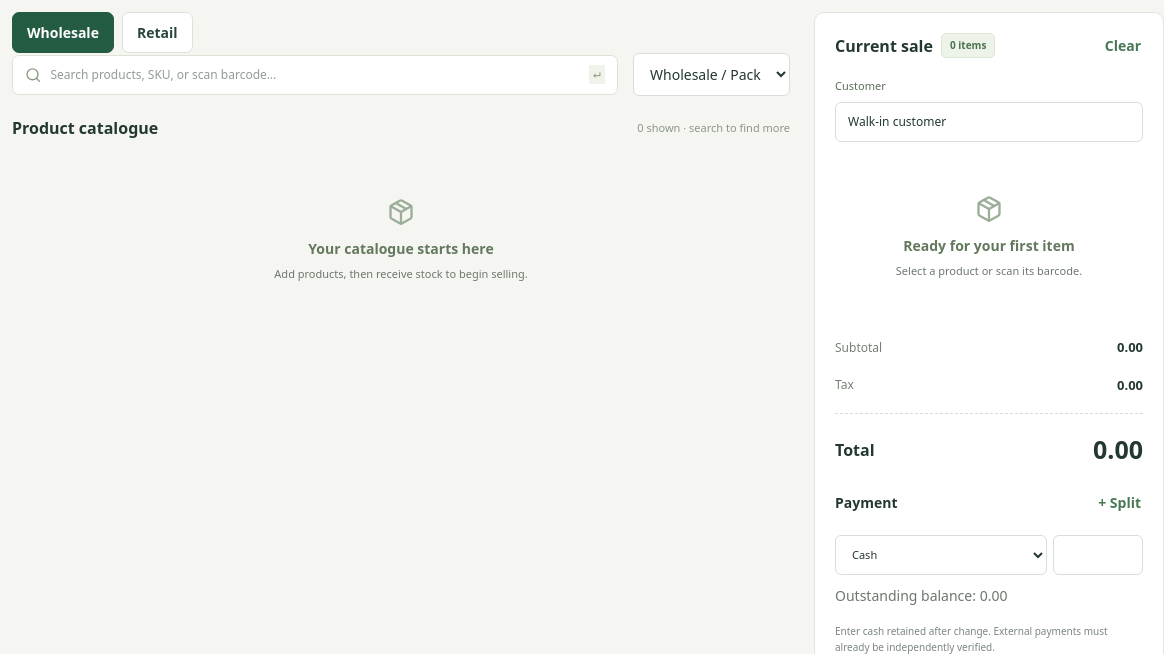
Test: keeps pack and unit cart lines separate for retail_pack
Check: the dropdown named "Default selling mode" shows "Wholesale / Pack", box [633,53,790,96]
Step 1. Click the button "Retail" → (157, 32), box [122,12,192,53]
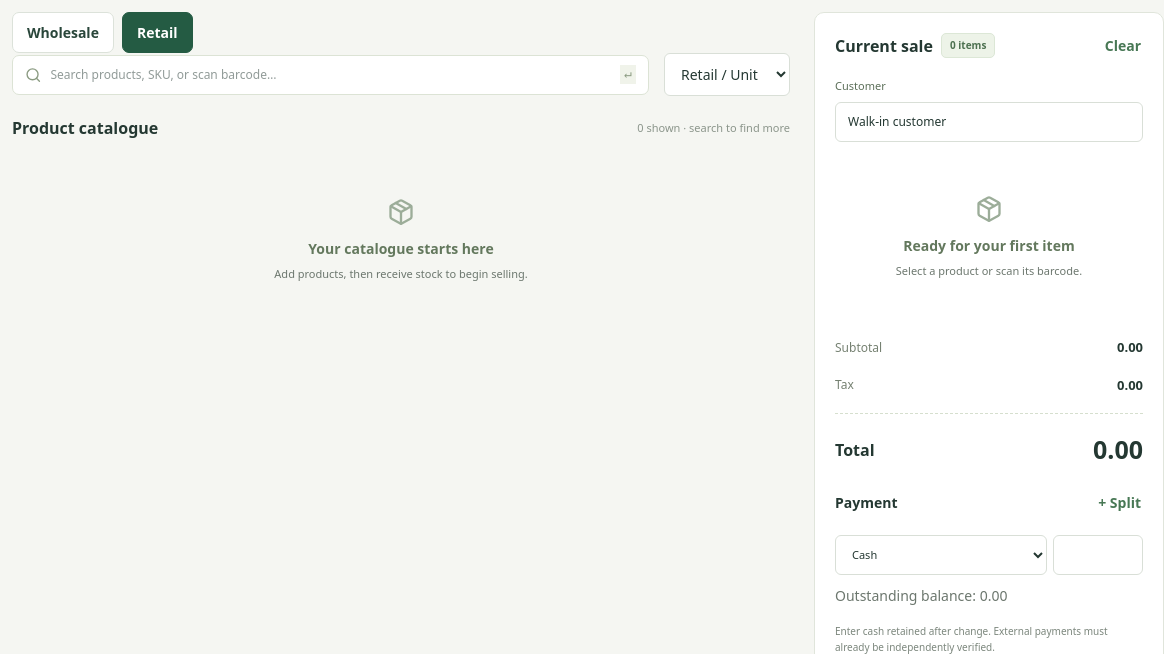
Step 2. Select "Retail / Pack" in the dropdown named "Default selling mode" → (727, 74), box [664,53,790,96]
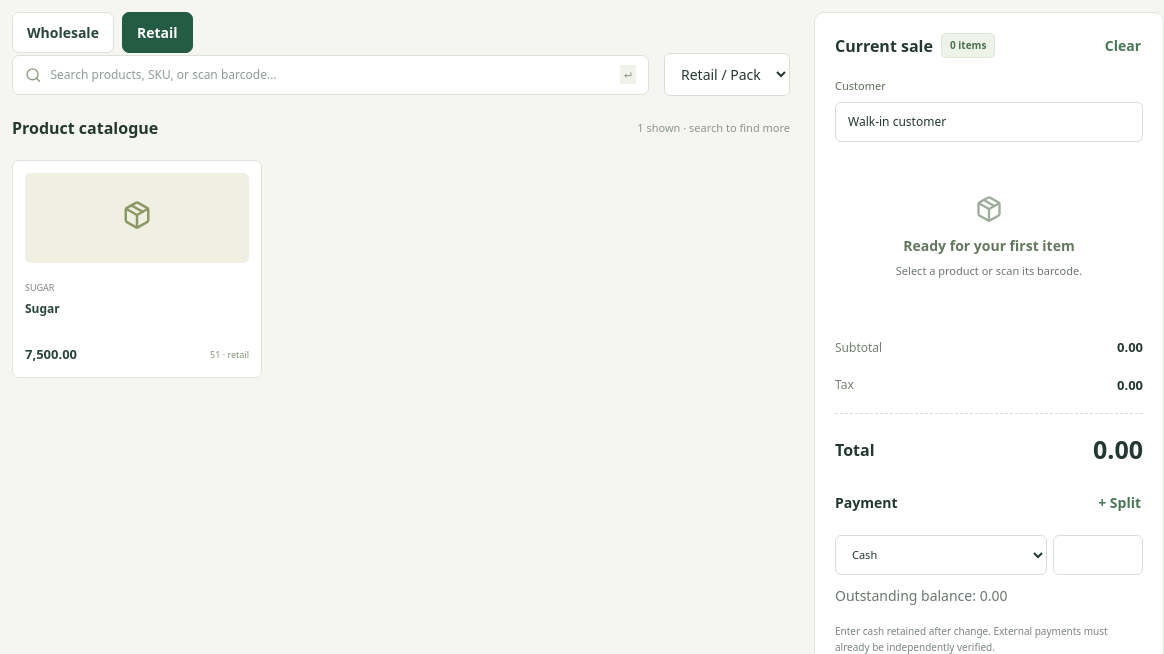
Step 3. Click the button "SUGAR Sugar 7,500.00 51 · retail" → (137, 269), box [12,160,262,378]
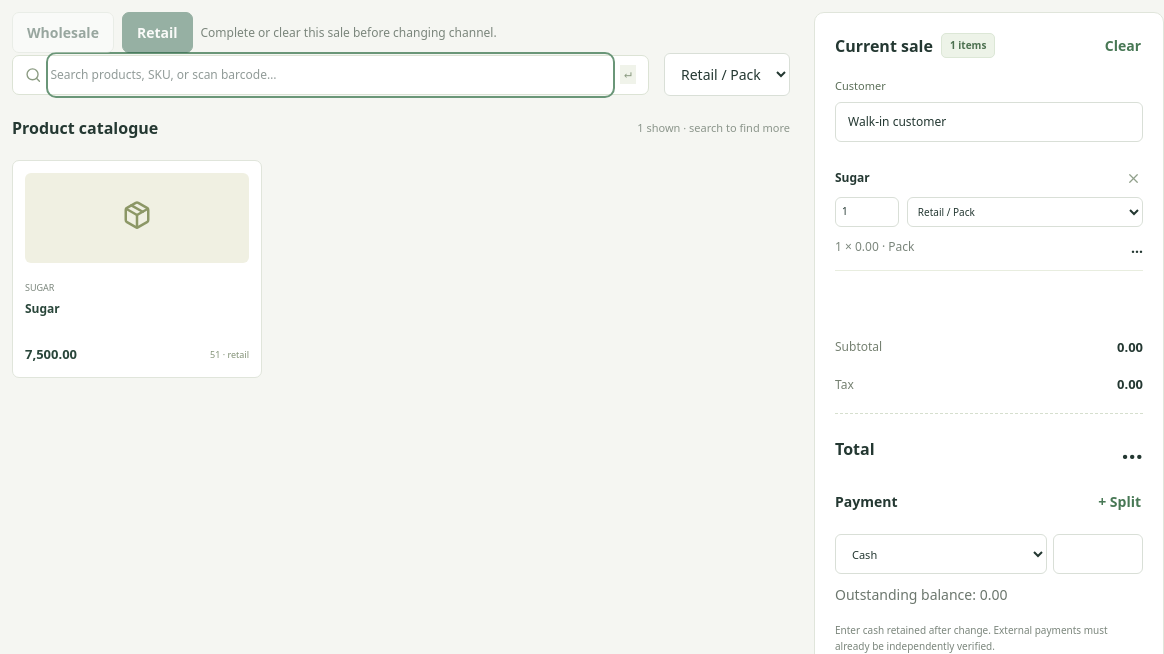
Step 4. Select "Retail / Unit" in the dropdown named "Default selling mode" → (727, 74), box [664,53,790,96]
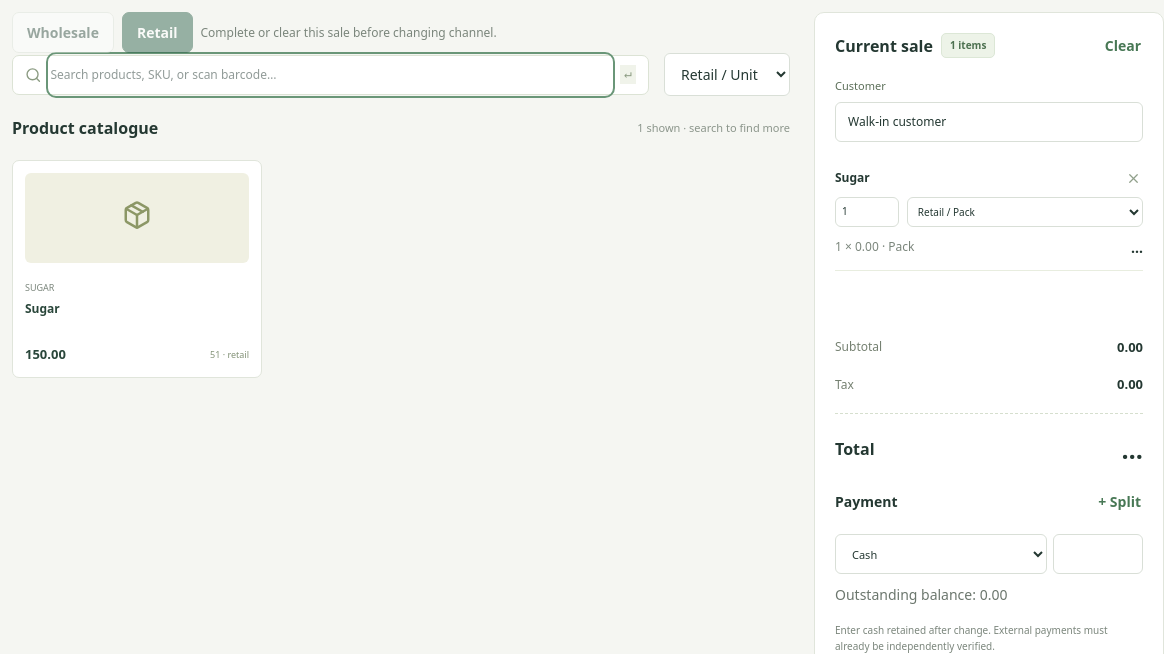
Step 5. Click the button "SUGAR Sugar 150.00 51 · retail" → (137, 269), box [12,160,262,378]
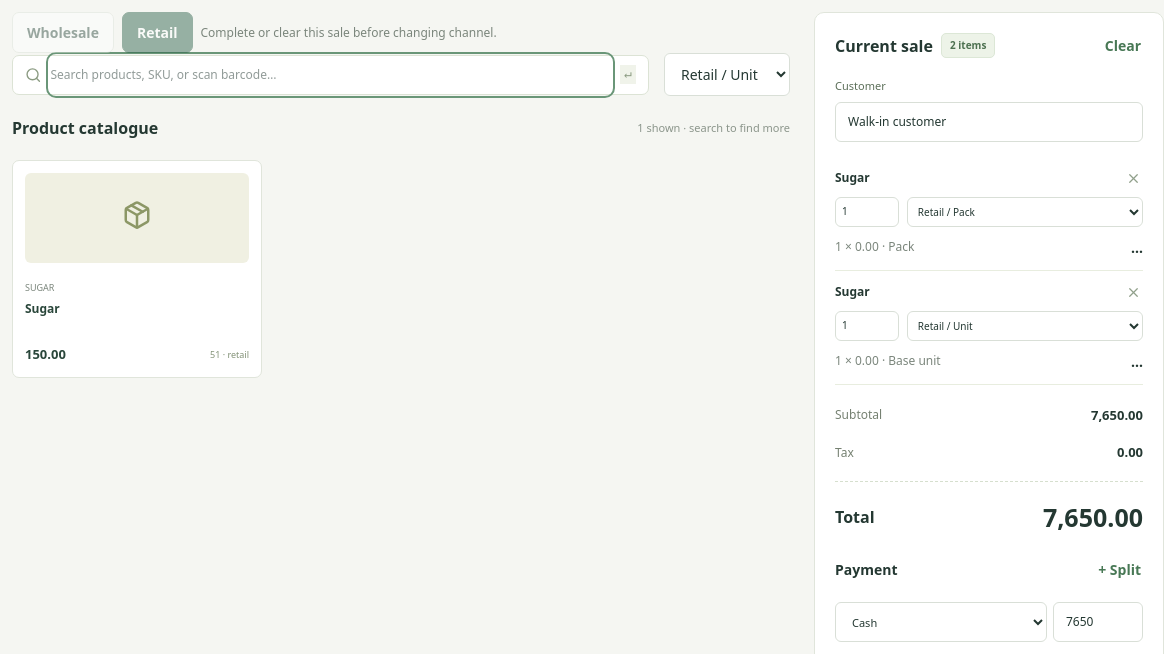
Check: the number of number fields named "Quantity Sugar" is 2, box [835,196,899,226]; [835,310,899,340]
